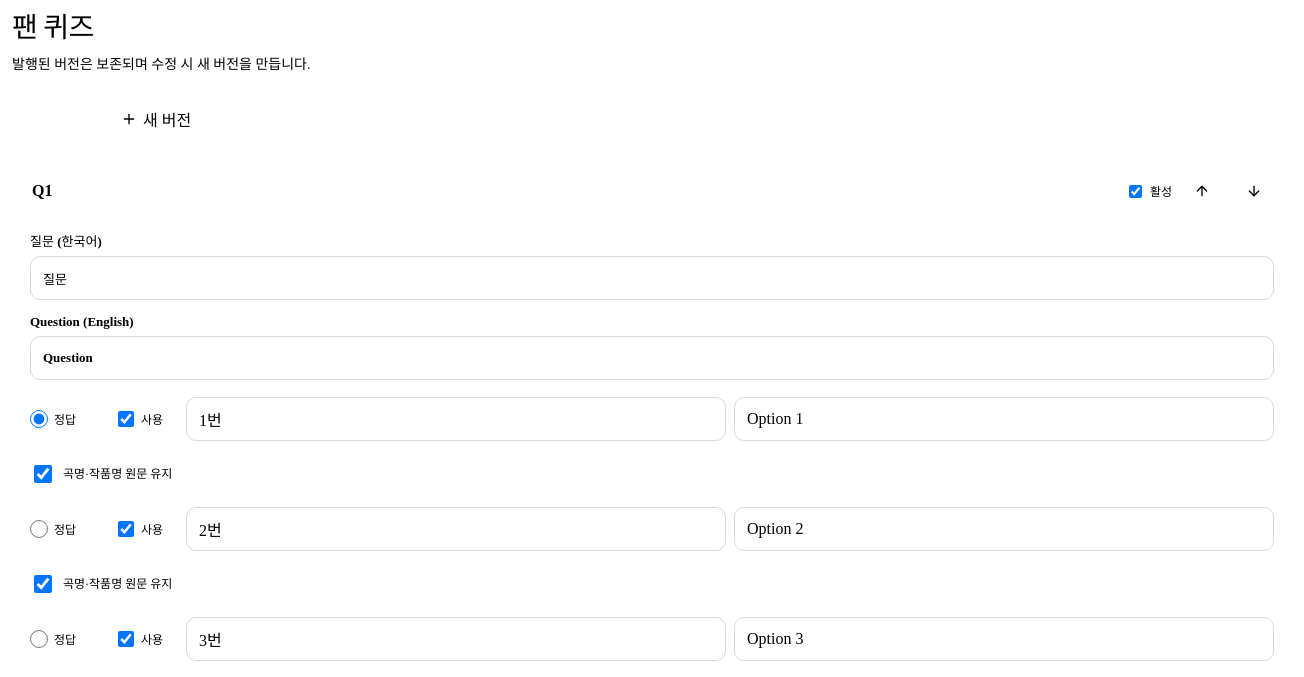
Test: quiz manager answer controls › wraps each native correct-answer radio in a visible explicit hit label
Expected: the label named "1번 선택지 정답" reads "정답", [54,413,76,427]
Click the checkbox named "1번 선택지 원문 유지". click: (43, 474)
box: [34,465,52,483]
(page scrolled)
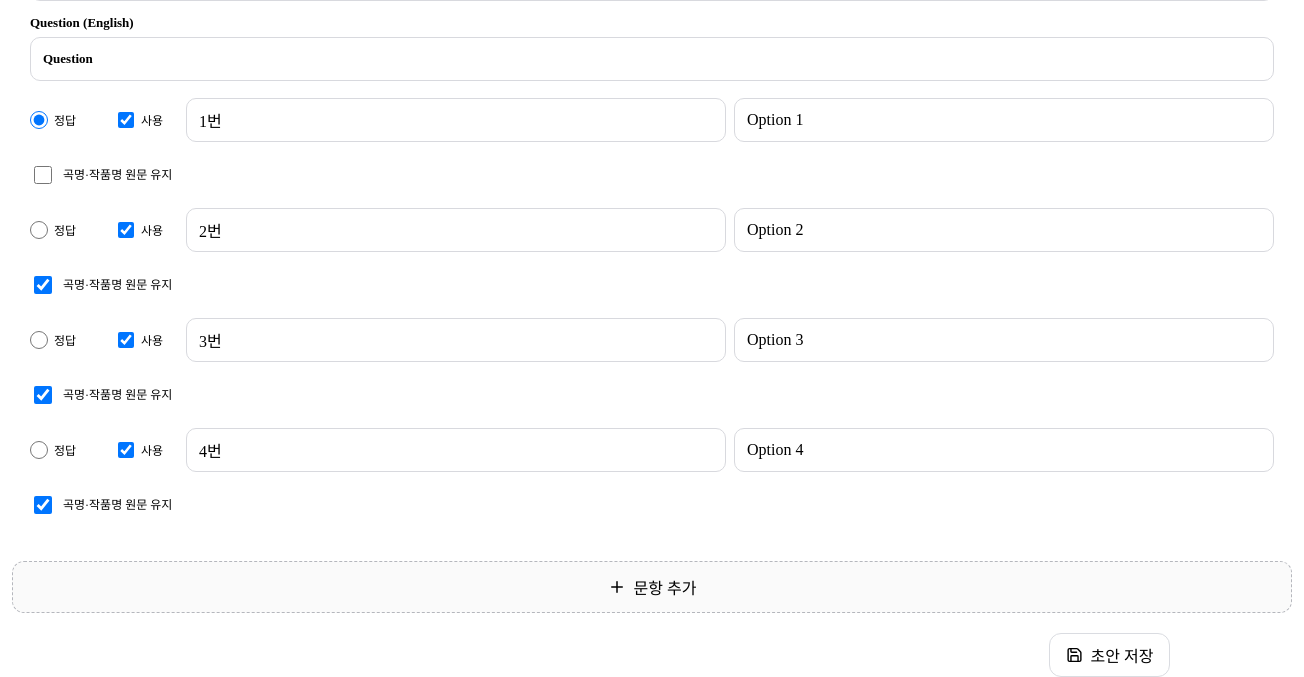
Click the button "초안 저장". click: (1109, 655)
box: [1048,633,1170,676]
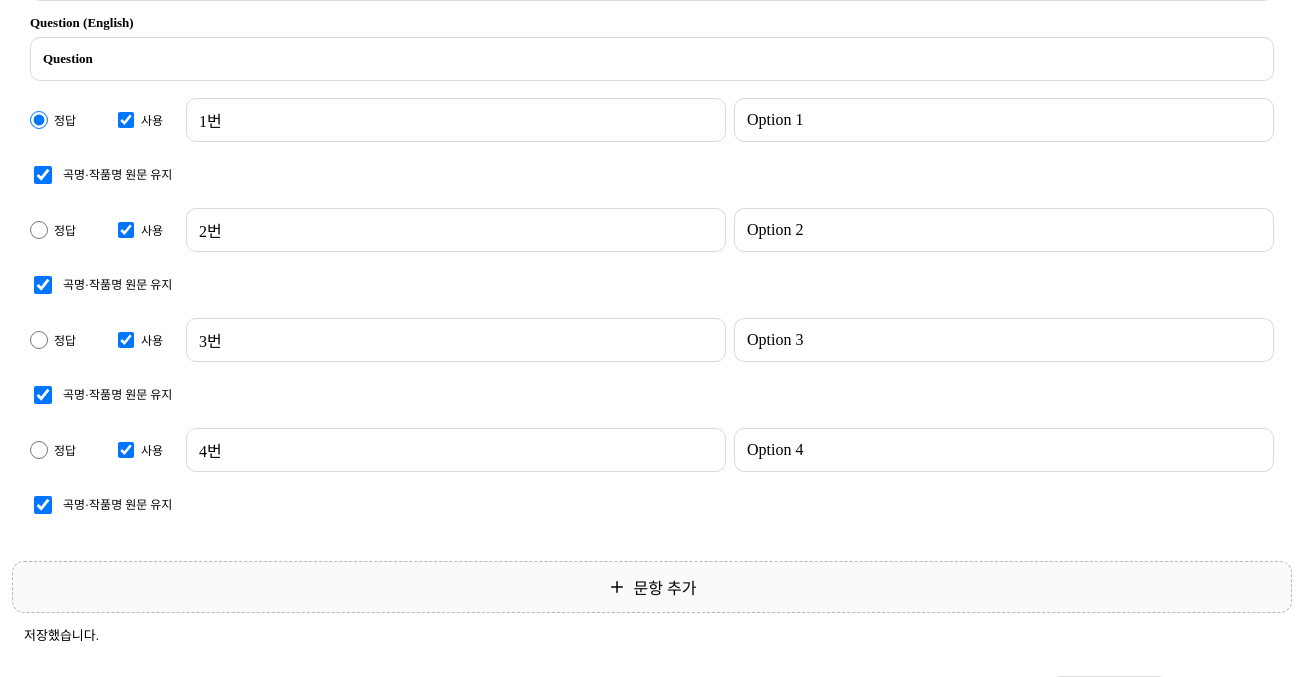
Now the text "저장했습니다." is shown, box [24,628,99,643]
Click the button "문항 추가". click: (652, 587)
box: [12,561,1292,613]
(page scrolled)
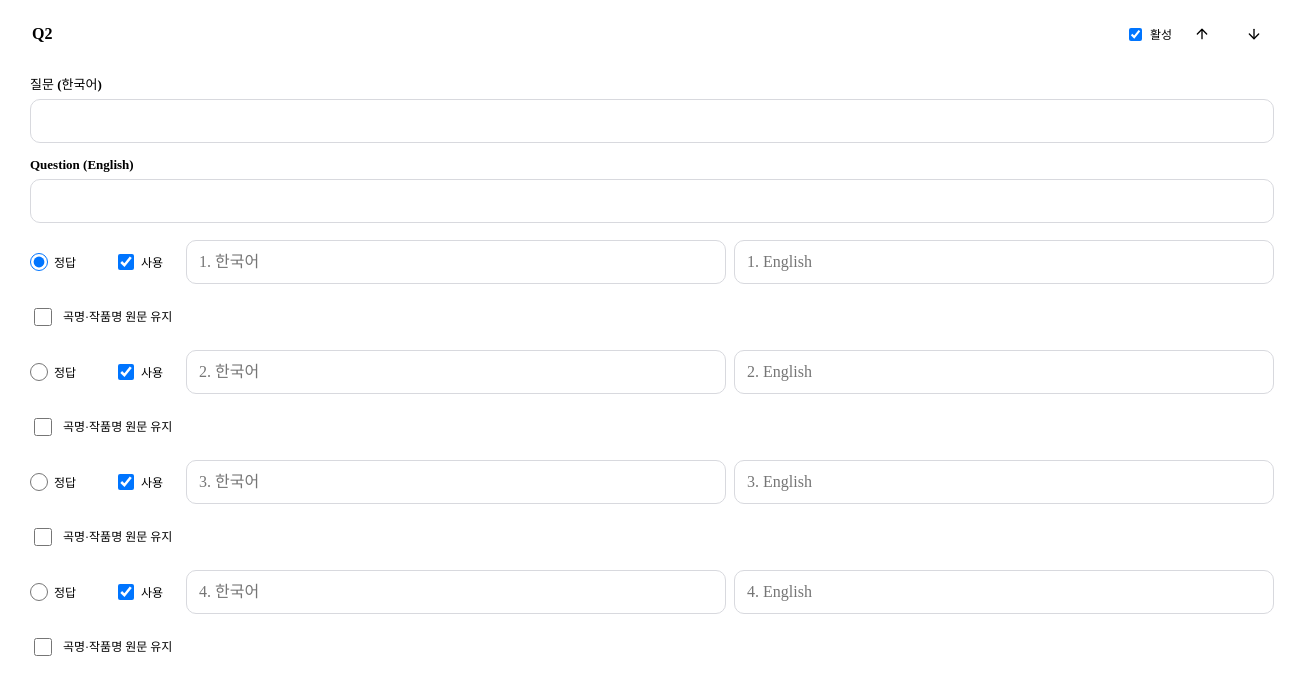
Now the number of fields labelled "1번 선택지 원문 유지" is 2
Now the checkbox named "1번 선택지 원문 유지" is not checked, box [34,308,52,326]
